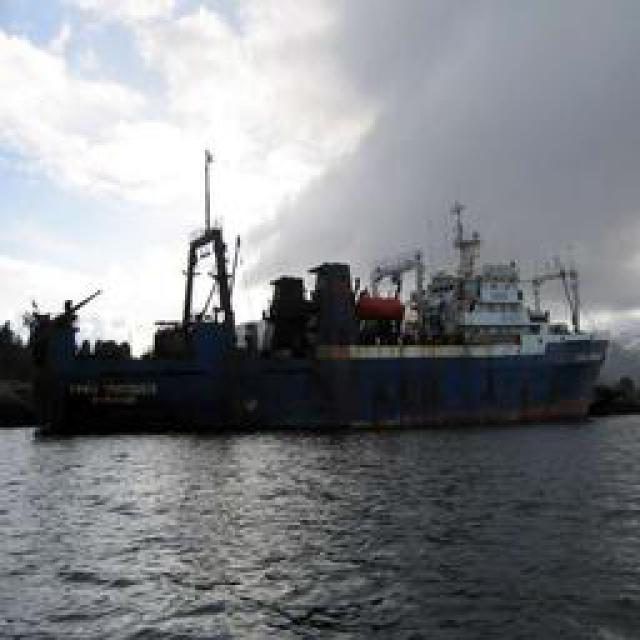Ship: (54, 170, 609, 435)
